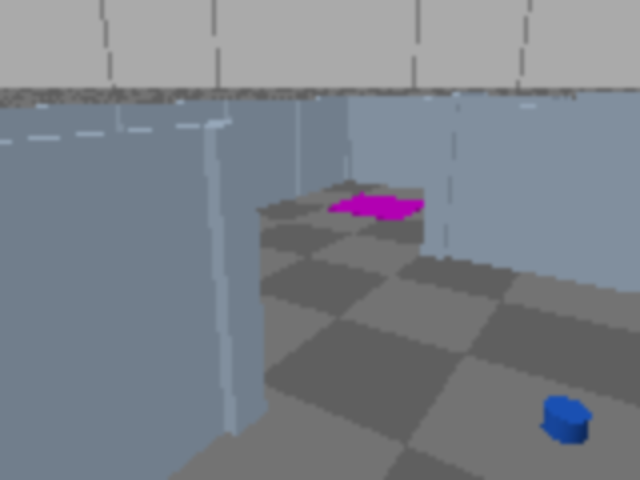goal_zone: (324, 194, 431, 222)
puck: (542, 398, 591, 444)
